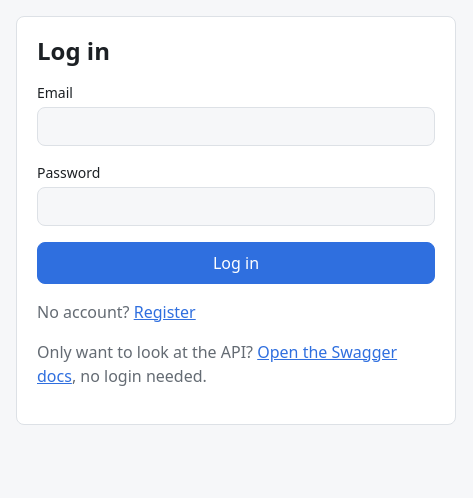
Test: shows the API error message on bad credentials
The width and height of the screenshot is (473, 498).
Type "a@b.co" into the field labelled "Email" at coordinates (236, 126), box [37,107,435,146]
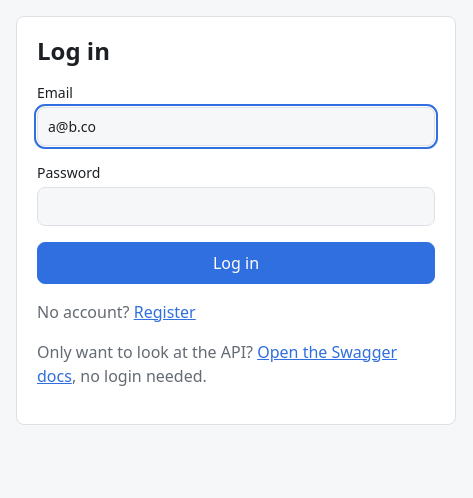
Type "wrong-password" into the password field labelled "Password" at coordinates (236, 206), box [37,187,435,226]
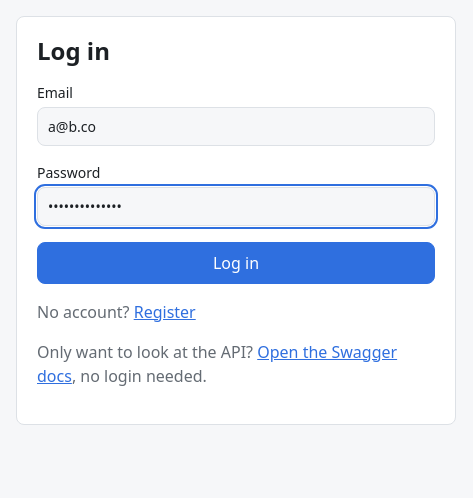
Click the button "Log in" at coordinates (236, 263), box [37,242,435,284]
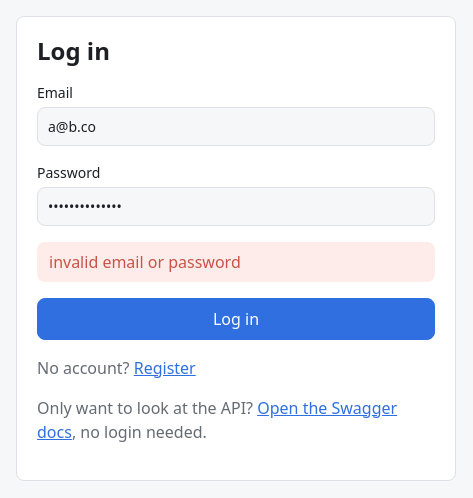
Expected: the button "Log in" is enabled, [37,298,435,340]
Expected: the message reads "invalid email or password", [49,251,241,273]
